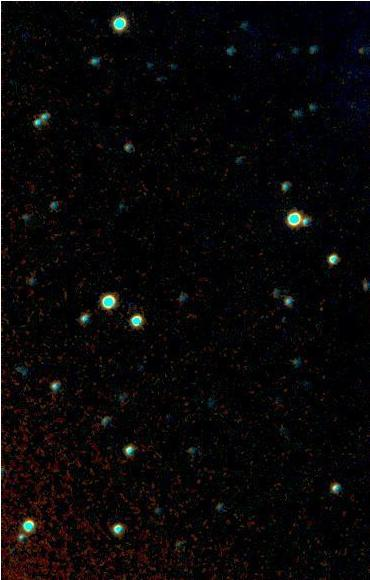star: (346, 35, 370, 65)
